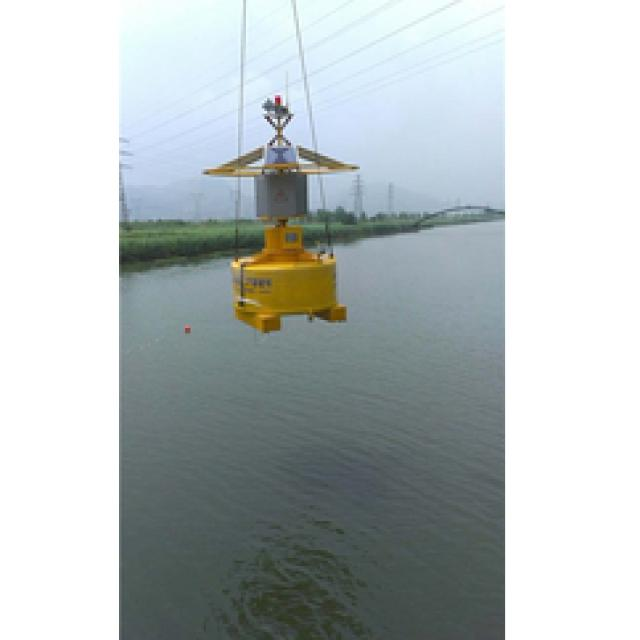buoy: (194, 89, 368, 333)
